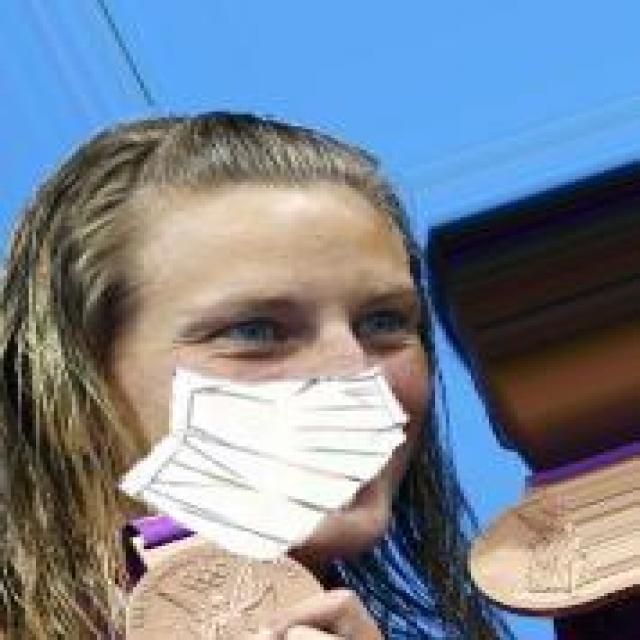mask: (4, 65, 507, 552)
